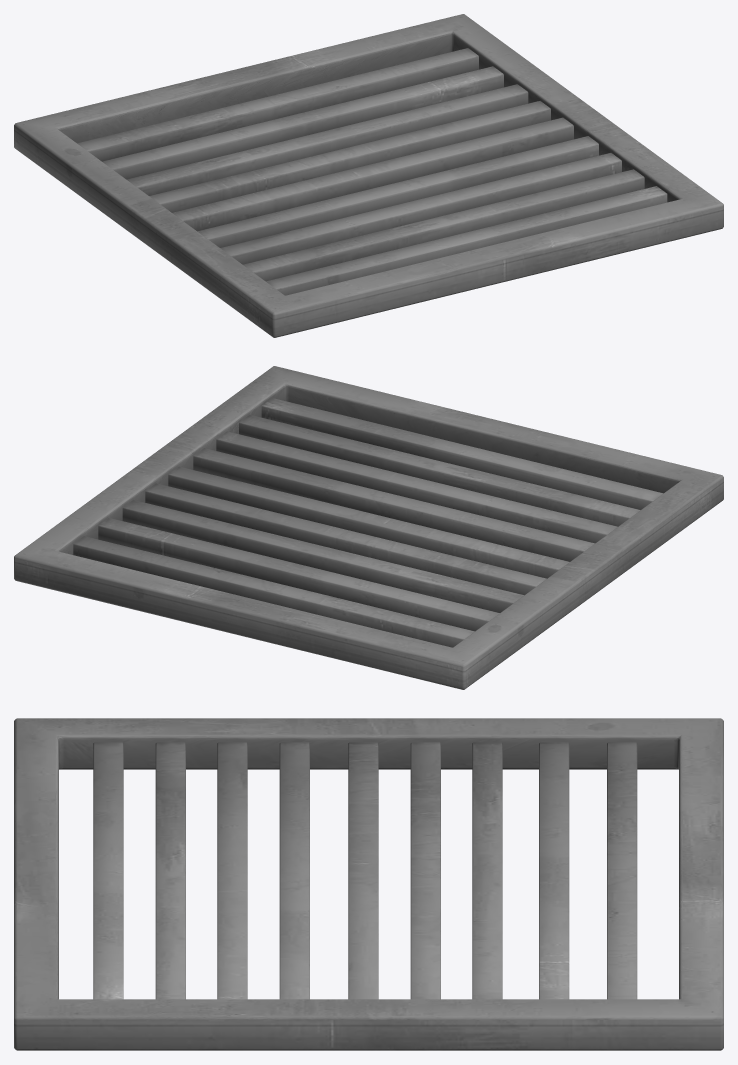
The model's file is bunker_grate.081fe116be.glb.
The picture shows the model from 3 angles, top to bottom: view 1: azimuth 30°, elevation 25°; view 2: azimuth 150°, elevation 25°; view 3: azimuth 270°, elevation 25°; orthographic projection. The views are drawn at different scales.
Parts seen in each view (by area): view 1: bunker_grate; view 2: bunker_grate; view 3: bunker_grate.
Boxes of the visible parts, left/top/right/bottom form: bunker_grate: left=14, top=14, right=723, bottom=337; bunker_grate: left=14, top=366, right=723, bottom=689; bunker_grate: left=14, top=718, right=723, bottom=1050.
Bounding box in the file's own units: 1.03 × 0.0566 × 1.03.
1 material, 1 textured.
